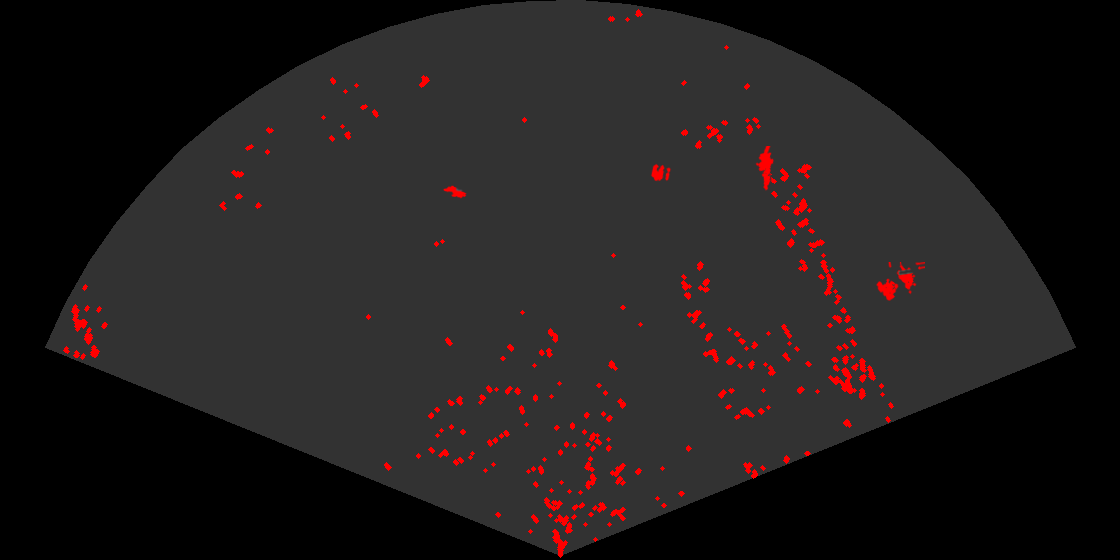AUV: (441, 184, 468, 200)
ball: (649, 162, 673, 183)
cage: (875, 262, 925, 302)
frogman: (754, 146, 775, 191)
